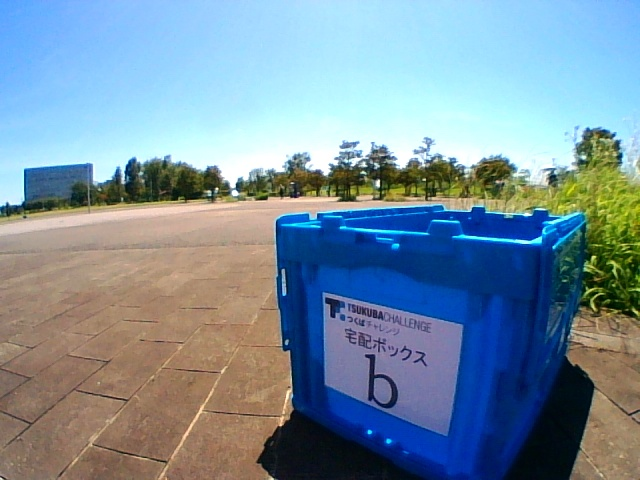blue_box: (284, 210, 583, 413)
tag_b: (365, 328, 449, 411)
